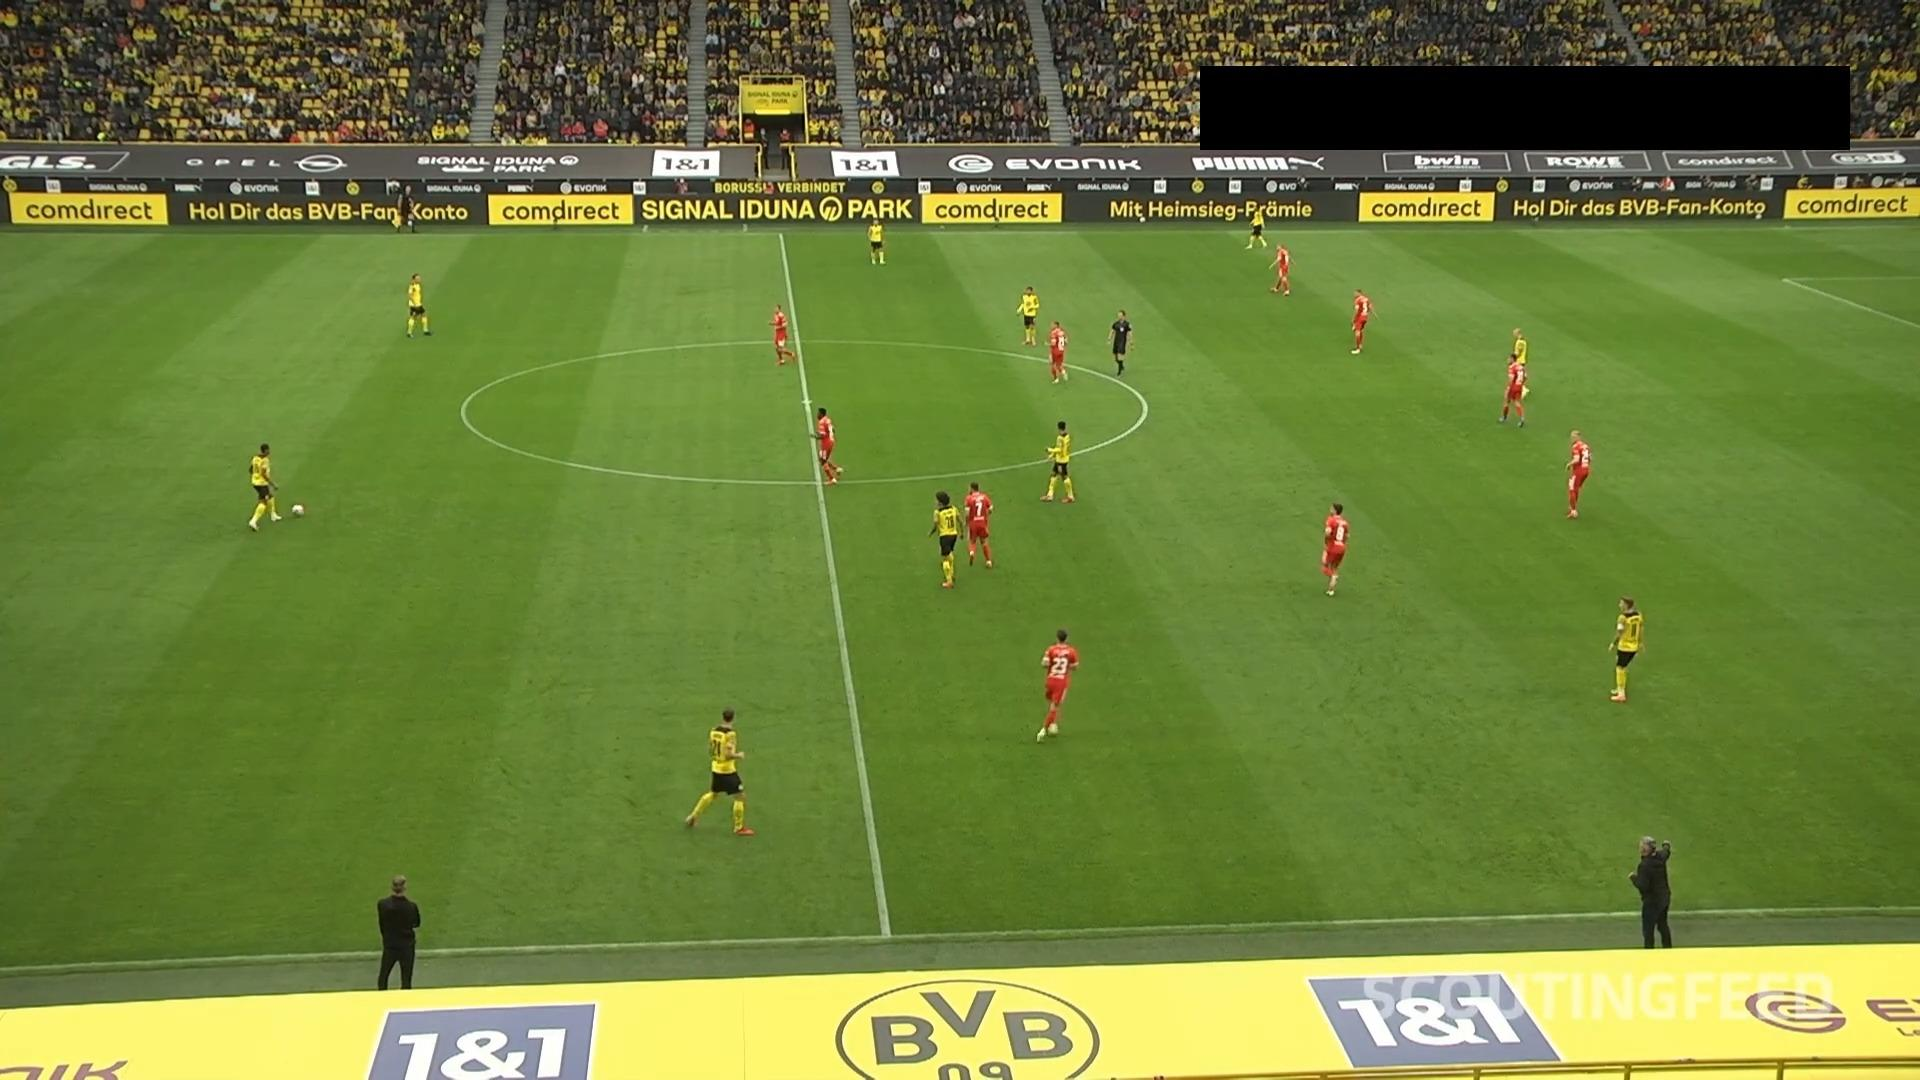ball: (289, 501, 306, 520)
